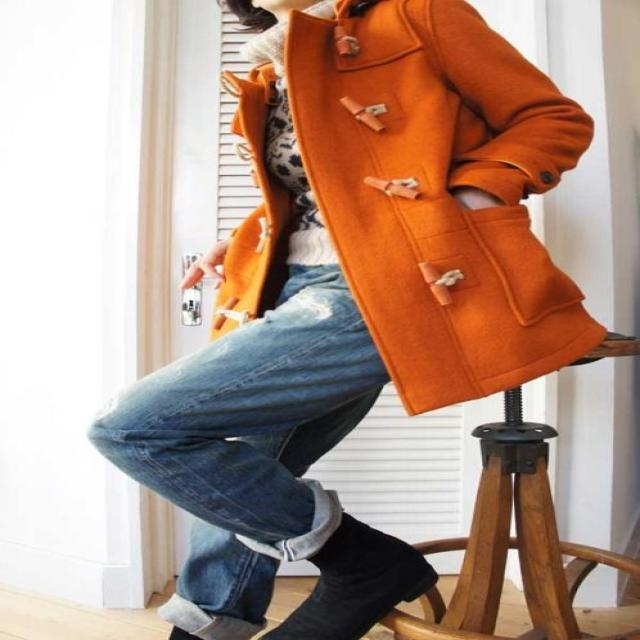coat: (208, 3, 612, 422)
trousers: (82, 259, 395, 640)
